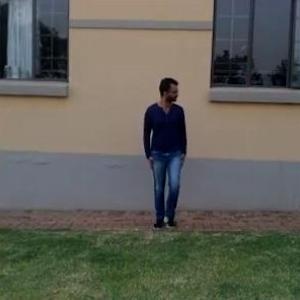follow: (144, 76, 188, 227)
